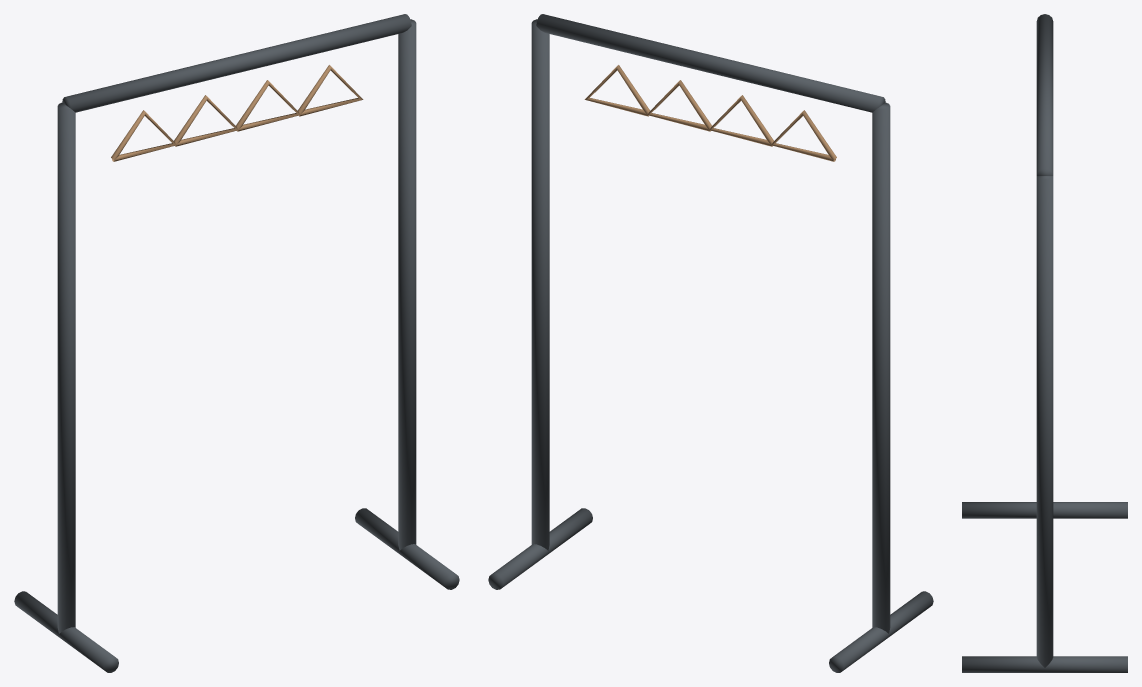
The model's file is atelier-clothes-rack.glb.
3 renders of one model, left to right at view 1: azimuth 30°, elevation 25°; view 2: azimuth 150°, elevation 25°; view 3: azimuth 270°, elevation 25°, orthographic. The views are drawn at different scales.
Parts seen in each view (by area): view 1: metal.014, legs.048; view 2: metal.014, legs.048; view 3: metal.014.
Boxes of the visible parts, <box> form: metal.014: <box>14,14,459,672</box>; legs.048: <box>111,65,363,161</box>; metal.014: <box>488,14,933,672</box>; legs.048: <box>584,65,836,161</box>; metal.014: <box>962,14,1127,672</box>.
Size of the model in its own units: 1.15 by 1.67 by 0.5.
